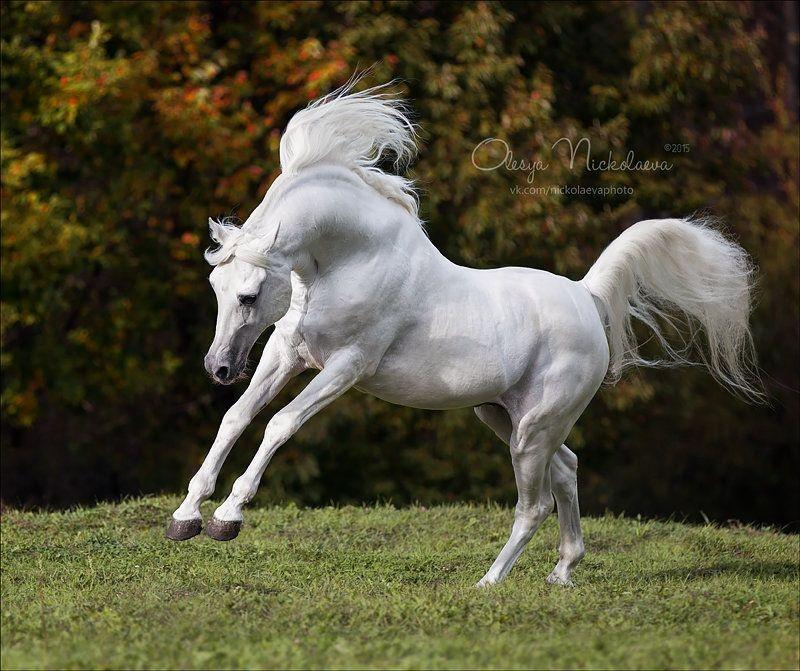horse: (165, 60, 772, 590)
